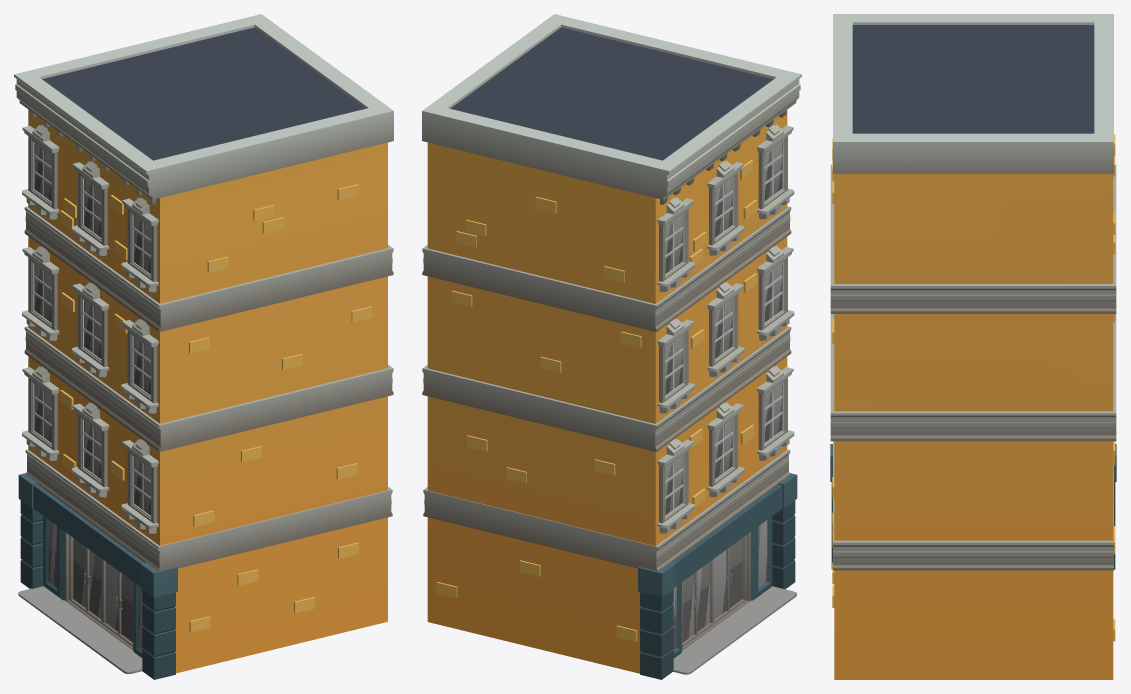
File: Building_21_2_B.fbx
3 renders of one model, left to right at view 1: azimuth 30°, elevation 25°; view 2: azimuth 150°, elevation 25°; view 3: azimuth 270°, elevation 25°, orthographic. The views are drawn at different scales.
Parts seen in each view (by area): view 1: Building_21_2_B; view 2: Building_21_2_B; view 3: Building_21_2_B.
Part boxes in pixels (x1,y1,x2,y2): Building_21_2_B: (14,14,393,679); Building_21_2_B: (422,14,801,679); Building_21_2_B: (830,14,1116,679).
Size of the model in its own units: 779 by 1485 by 713.
